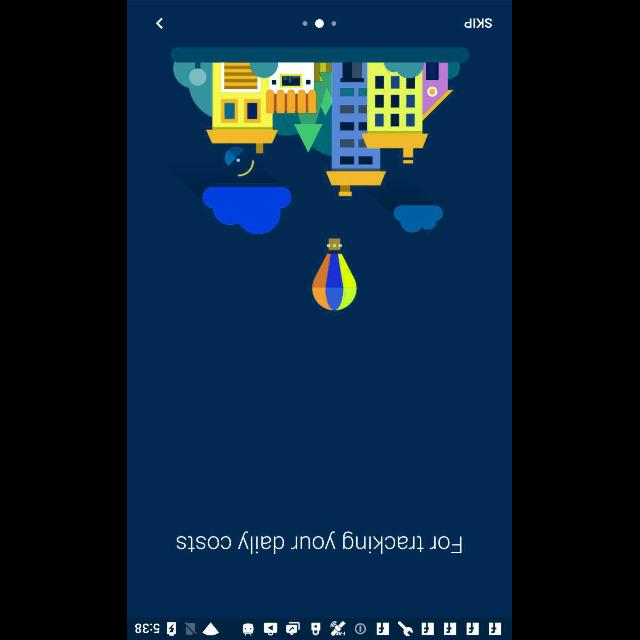icon: (156, 17, 164, 29)
image: (172, 46, 470, 312)
pageindicator: (302, 20, 338, 28)
text: (177, 530, 463, 554), (465, 18, 493, 28)
uppertaskbar: (128, 617, 512, 639)
